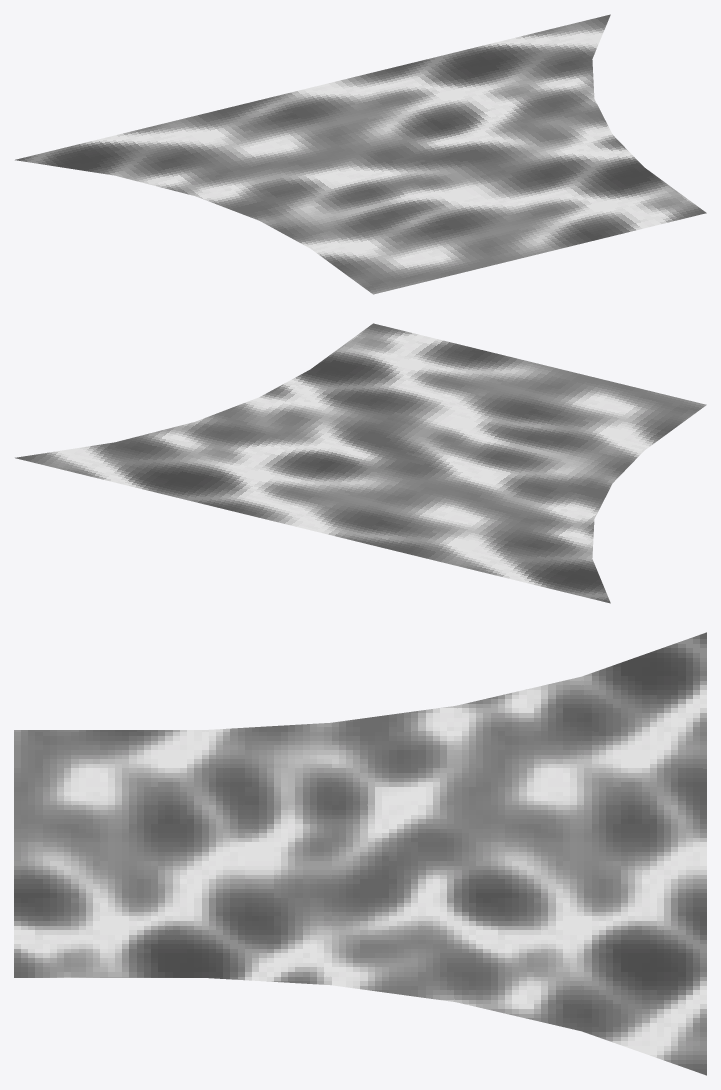
3 views of the same model, one above another, from view 1: azimuth 30°, elevation 25°; view 2: azimuth 150°, elevation 25°; view 3: azimuth 270°, elevation 25° (orthographic). The views are drawn at different scales.
Visible parts, largest first — view 1: model_Object24; view 2: model_Object24; view 3: model_Object24.
Part boxes in pixels (bbox=[...]): model_Object24: bbox=[15, 14, 706, 294]; model_Object24: bbox=[15, 323, 706, 603]; model_Object24: bbox=[14, 632, 706, 1075].
Bounding box in the file's own units: 5.47 × 4.31e-07 × 3.61.
Materials: 1 (1 with a texture image).
